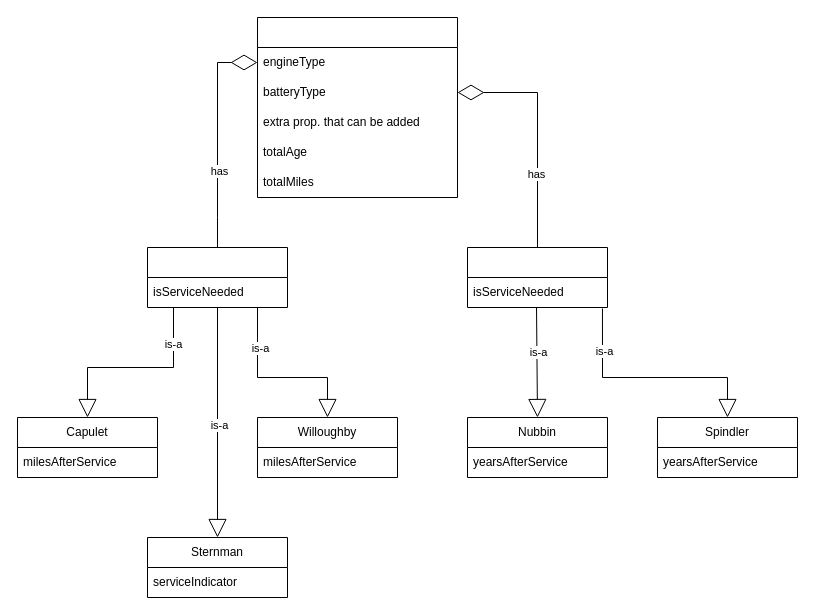
Image size: 815x615. Some labels were removed from this diagram. The shapes that lost their labels are listed below. From the top down, each one's box as (x1, y1, x2, y2) in pixels, then its label:
(256, 16, 458, 198): Car
(146, 246, 288, 308): Engine
(466, 246, 608, 308): Battery
